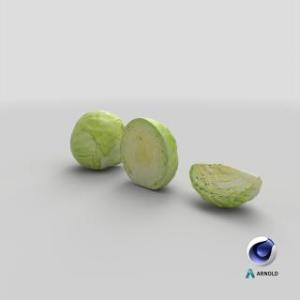cabbage: (118, 116, 178, 192), (69, 110, 131, 170), (188, 160, 262, 208)
